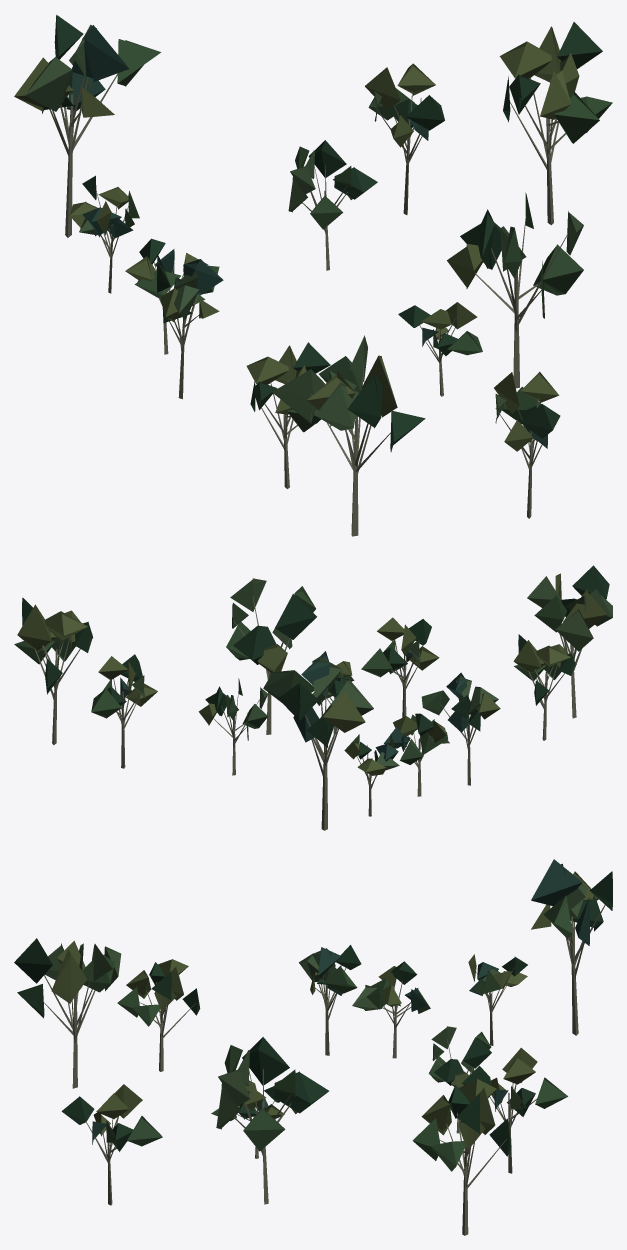
Rendered from forest_21_20.dae.
The picture shows the model from 3 angles, top to bottom: view 1: azimuth 30°, elevation 25°; view 2: azimuth 150°, elevation 25°; view 3: azimuth 270°, elevation 25°; orthographic projection. The views are drawn at different scales.
Parts seen in each view (by area): view 1: Node; view 2: Node; view 3: Node.
Boxes of the visible parts, x1=… form: Node: x1=14, y1=14, x2=612, y2=536; Node: x1=14, y1=565, x2=612, y2=830; Node: x1=14, y1=859, x2=612, y2=1235.
Bounding box in the file's own units: 9.99 × 11.53 × 5.91.
